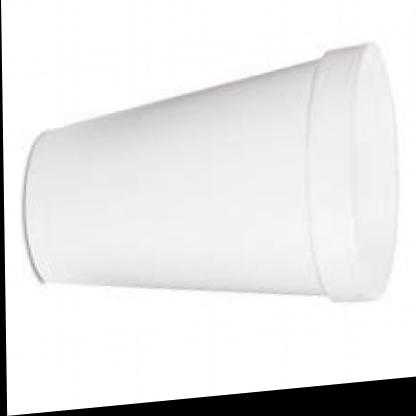Plastic: (1, 19, 416, 398)
